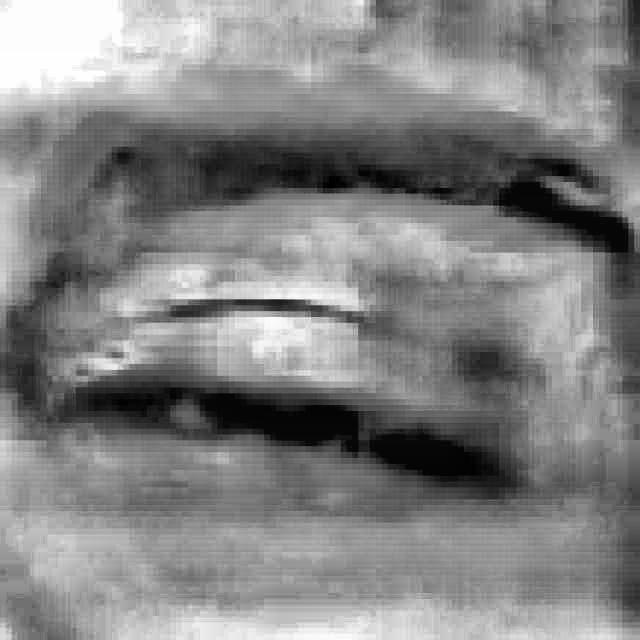closed_eyes: (8, 55, 634, 589)
